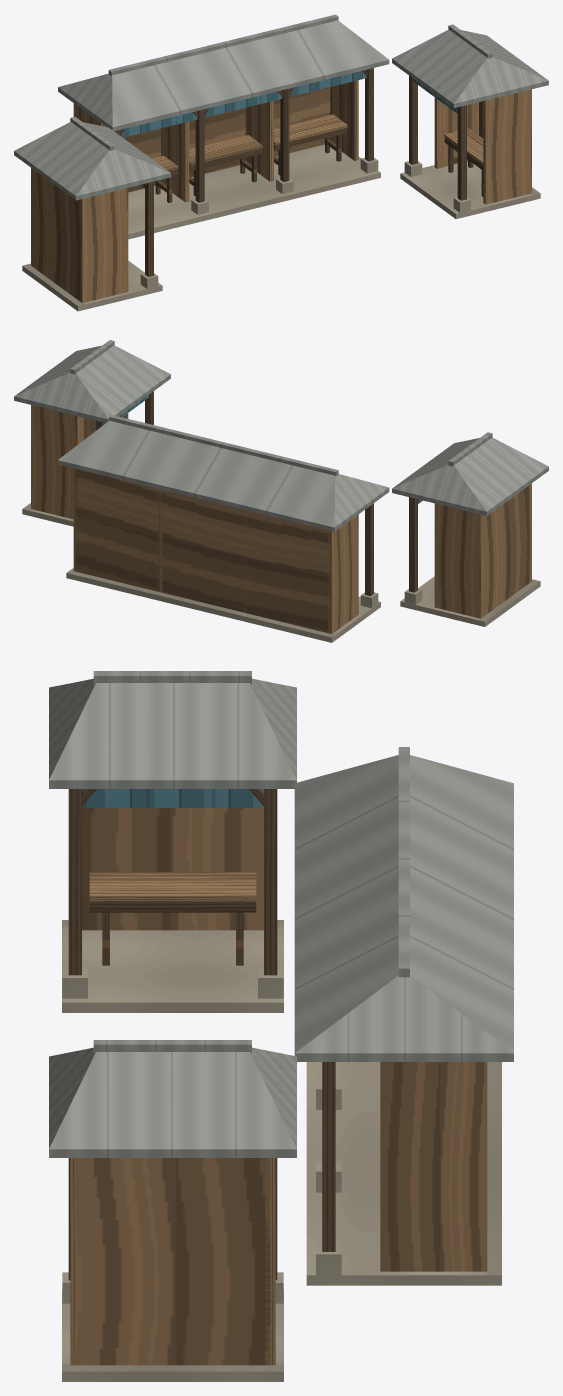
The model's file is maseru.glb.
The picture shows the model from 3 angles, top to bottom: view 1: azimuth 30°, elevation 25°; view 2: azimuth 150°, elevation 25°; view 3: azimuth 270°, elevation 25°; orthographic projection. The views are drawn at different scales.
Visible parts, largest first — view 1: maseru; view 2: maseru; view 3: maseru.
Part boxes in pixels (x1=…): maseru: x1=14, y1=14, x2=548, y2=311; maseru: x1=14, y1=340, x2=548, y2=642; maseru: x1=49, y1=671, x2=513, y2=1381.
Bounding box in the file's own units: 7.4 × 2.23 × 3.15.
Materials: 1 (1 with a texture image).
